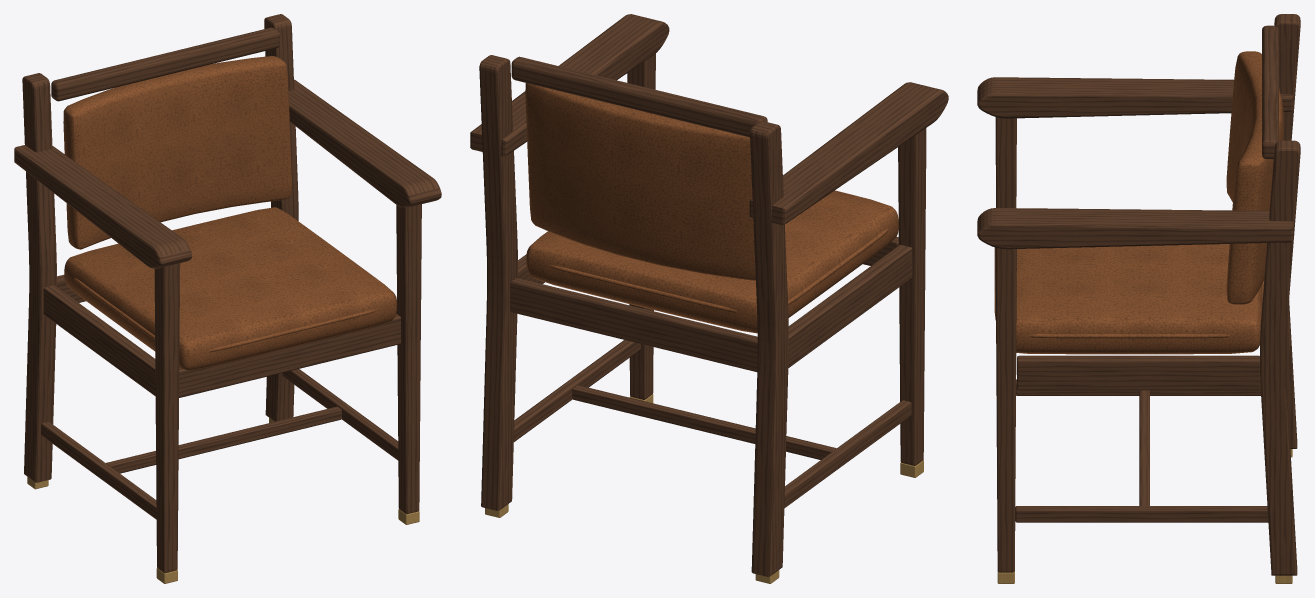
File: guest_chair.glb
The picture shows the model from 3 angles, left to right: view 1: azimuth 30°, elevation 25°; view 2: azimuth 150°, elevation 25°; view 3: azimuth 270°, elevation 25°; orthographic projection. The views are drawn at different scales.
Visible parts, largest first — view 1: part_frame_LOD0, part_seat_LOD0, part_back_LOD0, part_leg_br_LOD0, part_leg_fr_LOD0, part_leg_fl_LOD0, part_leg_bl_LOD0; view 2: part_frame_LOD0, part_back_LOD0, part_seat_LOD0, part_leg_br_LOD0, part_leg_bl_LOD0, part_leg_fr_LOD0, part_leg_fl_LOD0; view 3: part_frame_LOD0, part_seat_LOD0, part_leg_bl_LOD0, part_back_LOD0, part_leg_fl_LOD0, part_leg_br_LOD0, part_leg_fr_LOD0.
Part boxes in pixels (left/top/right/bottom): part_frame_LOD0: left=14, top=27, right=441, bottom=519; part_seat_LOD0: left=64, top=207, right=397, bottom=370; part_back_LOD0: left=63, top=56, right=291, bottom=249; part_leg_br_LOD0: left=22, top=73, right=56, bottom=489; part_leg_fr_LOD0: left=154, top=263, right=180, bottom=583; part_leg_fl_LOD0: left=396, top=204, right=421, bottom=524; part_leg_bl_LOD0: left=264, top=14, right=298, bottom=422; part_frame_LOD0: left=470, top=14, right=948, bottom=508; part_back_LOD0: left=525, top=83, right=755, bottom=280; part_seat_LOD0: left=526, top=190, right=898, bottom=333; part_leg_br_LOD0: left=750, top=121, right=788, bottom=583; part_leg_bl_LOD0: left=479, top=55, right=517, bottom=517; part_leg_fr_LOD0: left=898, top=128, right=926, bottom=477; part_leg_fl_LOD0: left=627, top=53, right=655, bottom=403; part_frame_LOD0: left=977, top=25, right=1293, bottom=522; part_seat_LOD0: left=994, top=244, right=1264, bottom=354; part_leg_bl_LOD0: left=1260, top=140, right=1300, bottom=583; part_back_LOD0: left=1226, top=51, right=1283, bottom=304; part_leg_fl_LOD0: left=995, top=248, right=1016, bottom=583; part_leg_br_LOD0: left=1274, top=14, right=1300, bottom=457; part_leg_fr_LOD0: left=995, top=117, right=1016, bottom=207.
Size of what is drawn, in the model's own units: 0.584 by 0.8036 by 0.5391.
Materials: 4 (4 with a texture image).
